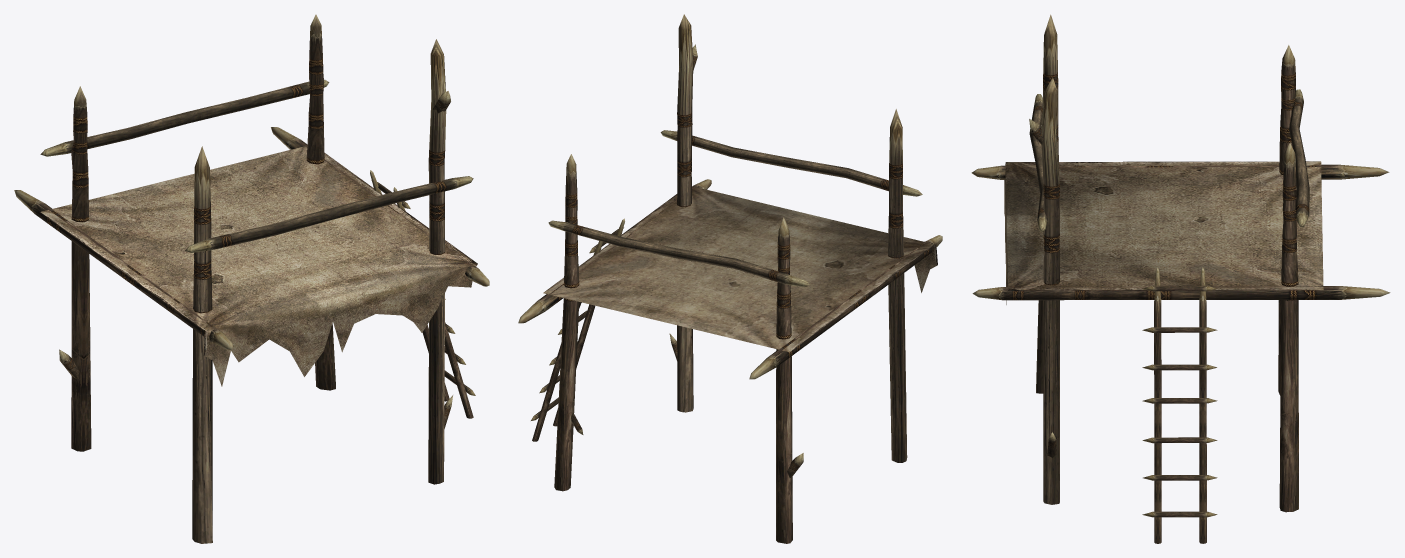
Rendered from gaint_builda_10.fbx.
3 views of the same model, side by side, from view 1: azimuth 30°, elevation 25°; view 2: azimuth 150°, elevation 25°; view 3: azimuth 270°, elevation 25° (orthographic). The views are drawn at different scales.
Parts seen in each view (by area): view 1: gaint_ buildb_01, gaint_build a_02; view 2: gaint_ buildb_01, gaint_build a_02; view 3: gaint_ buildb_01, gaint_build a_02.
Boxes of the visible parts, <box> form: gaint_ buildb_01: <box>40,146,477,386</box>; gaint_build a_02: <box>14,14,489,543</box>; gaint_ buildb_01: <box>543,186,937,352</box>; gaint_build a_02: <box>518,14,942,543</box>; gaint_ buildb_01: <box>1004,161,1323,304</box>; gaint_build a_02: <box>971,14,1390,543</box>.
Size of the model in its own units: 11.63 by 13.62 by 12.18.
